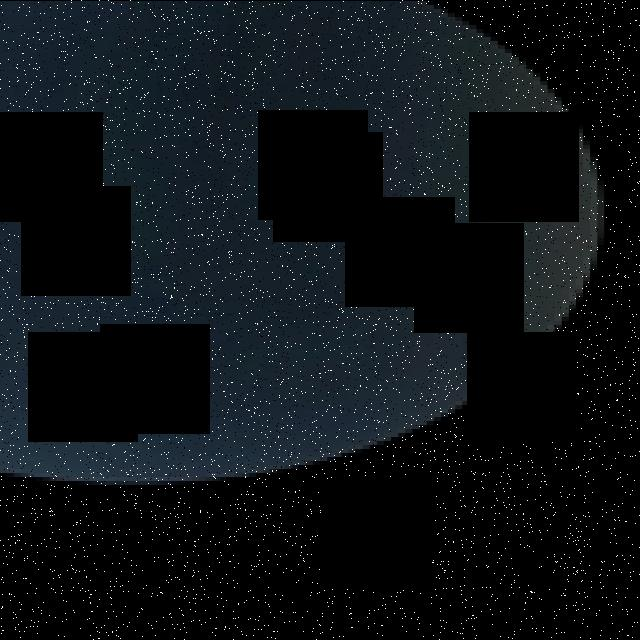Uranus: (0, 0, 605, 488)
